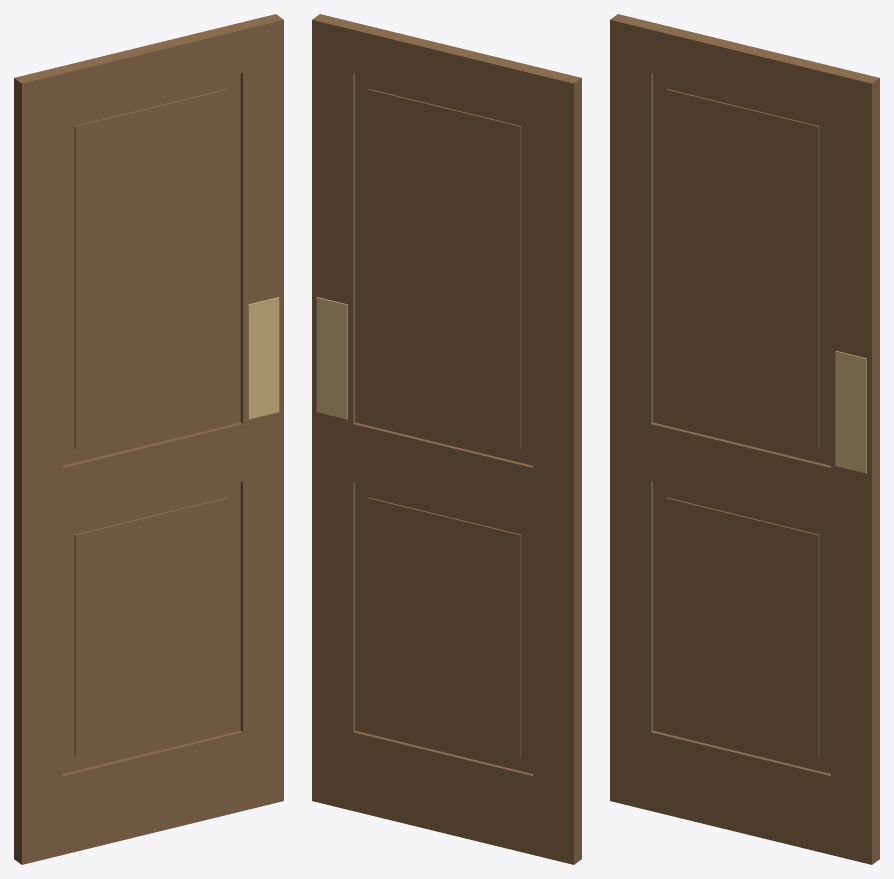
Rendered from panel_door_left.glb.
The picture shows the model from 3 angles, left to right: view 1: azimuth 30°, elevation 25°; view 2: azimuth 150°, elevation 25°; view 3: azimuth 330°, elevation 25°; orthographic projection.
Visible parts, largest first — view 1: panel_door_left; view 2: panel_door_left; view 3: panel_door_left.
Part boxes in pixels (x1,y1,x2,y2): panel_door_left: (14, 14, 283, 864); panel_door_left: (312, 14, 581, 864); panel_door_left: (610, 14, 879, 864).
Size of the model in its own units: 0.765 by 2.18 by 0.046.
